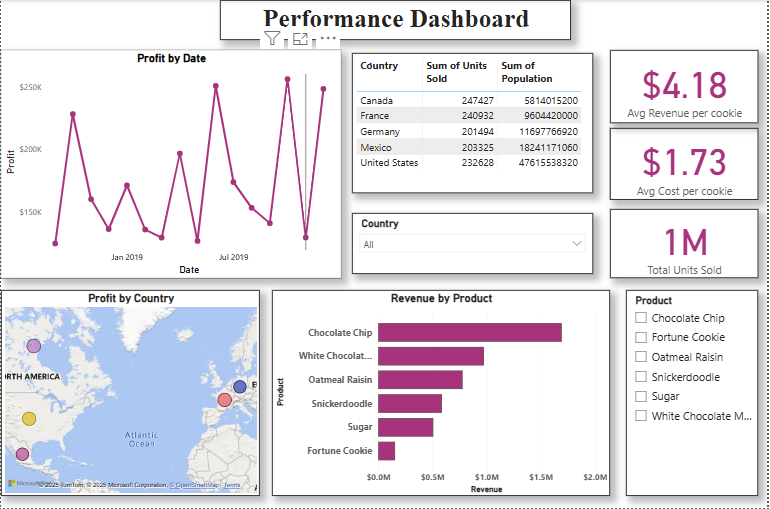

The page's visual inventory and layout, read from the dashboard file:
{"tool":"powerbi","page":{"name":"Page 1","canvas":[1130,750],"ordinal":0},"visuals":[{"type":"textbox","box":[323.3,0,518.2,59.1],"z":0},{"type":"lineChart","title":"Profit by Date","fields":{"Y":["Sum(Cookie Sales.Profit)"],"Category":["Cookie Sales.Date"]},"box":[0,73.8,502,336.6],"z":1000},{"type":"map","title":"Profit by Country","fields":{"Category":["Cookie Sales.Country","countries by population.Location"],"Size":["Sum(Cookie Sales.Profit)"]},"box":[0,428.1,382.4,304.1],"z":2000},{"type":"tableEx","fields":{"Values":["Cookie Sales.Country","Sum(Cookie Sales.Units Sold)","Sum(Cookie Sales.Population)"]},"box":[518.2,78.2,355.8,206.7],"z":3000},{"type":"clusteredBarChart","title":"Revenue by Product","fields":{"Category":["Cookie Sales.Product"],"Y":["Sum(Cookie Sales.Revenue)"]},"box":[400.1,428.1,499,304.1],"z":4000},{"type":"slicer","fields":{"Values":["Cookie Sales.Country"]},"box":[518.2,314.5,355.8,90.1],"z":5000},{"type":"slicer","fields":{"Values":["Cookie Sales.Product"]},"box":[922.7,428.1,194.9,304.1],"z":6000},{"type":"card","fields":{"Values":["Avg(Cookie Sales.Cost per cookie)"]},"box":[899.1,189,218.5,106.3],"z":7000},{"type":"card","fields":{"Values":["Avg(Cookie Sales.Revenue per cookie)"]},"box":[899.1,73.8,218.5,107.8],"z":8000},{"type":"card","fields":{"Values":["Sum(Cookie Sales.Units Sold)"]},"box":[899.1,308.6,218.5,101.9],"z":9000}]}

Visuals, with their boxes in screenshot pixels (x1, y1, x2, y2), scaled from the page's 1130x750 canvas onto the 770x509 screenshot:
textbox: left=220, top=0, right=573, bottom=40
"Profit by Date" lineChart: left=0, top=50, right=342, bottom=279
"Profit by Country" map: left=0, top=291, right=261, bottom=497
tableEx - Cookie Sales.Country x Sum(Cookie Sales.Units Sold): left=353, top=53, right=596, bottom=193
"Revenue by Product" clusteredBarChart: left=273, top=291, right=613, bottom=497
slicer - Cookie Sales.Country: left=353, top=213, right=596, bottom=275
slicer - Cookie Sales.Product: left=629, top=291, right=762, bottom=497
card - Avg(Cookie Sales.Cost per cookie): left=613, top=128, right=762, bottom=200
card - Avg(Cookie Sales.Revenue per cookie): left=613, top=50, right=762, bottom=123
card - Sum(Cookie Sales.Units Sold): left=613, top=209, right=762, bottom=279
